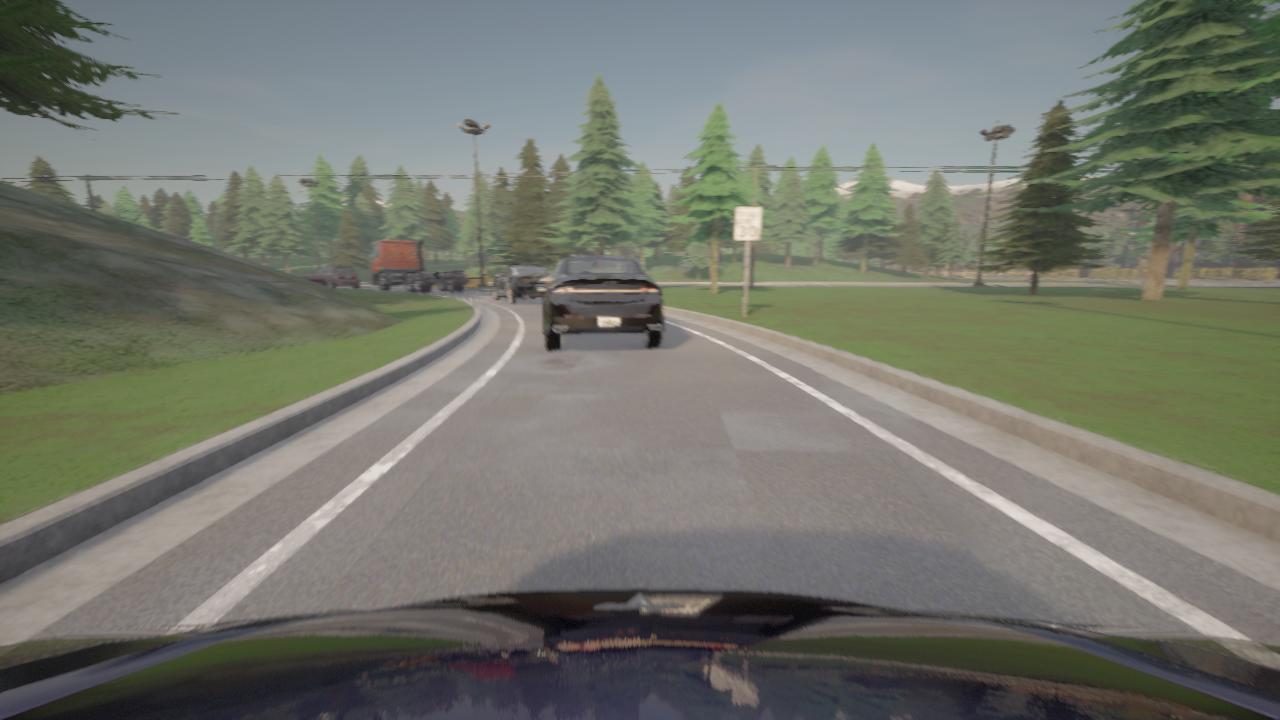cyclist: (0, 588, 1279, 719), (539, 255, 665, 350), (368, 239, 468, 292), (493, 262, 554, 304), (302, 266, 360, 288)
